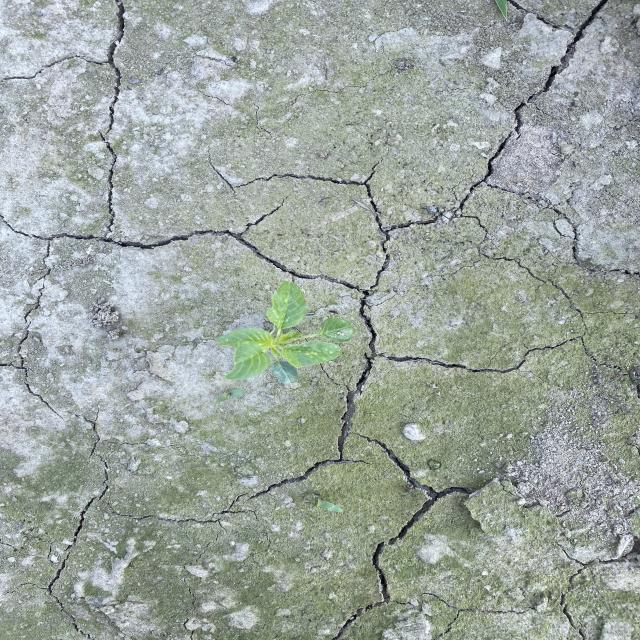PalmerAmaranth: (212, 280, 356, 387)
